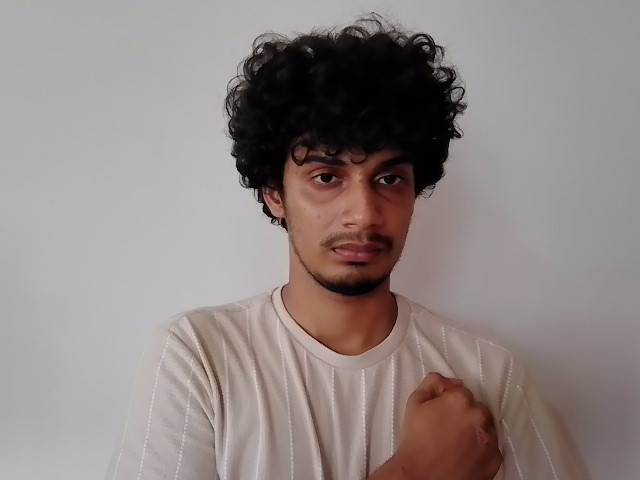sorry: (346, 298, 556, 480)
